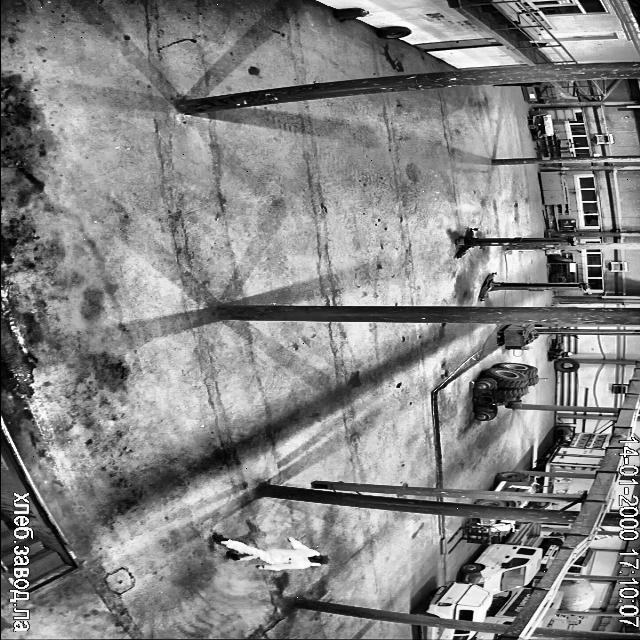class4: (214, 536, 330, 570), (493, 82, 541, 86)
class7: (460, 524, 541, 593), (532, 433, 612, 474), (412, 580, 492, 620), (484, 588, 532, 624), (463, 518, 529, 543), (558, 576, 595, 610), (493, 471, 542, 494), (540, 476, 594, 493), (537, 592, 562, 627), (476, 498, 551, 508), (567, 548, 595, 574), (421, 627, 474, 640), (540, 537, 563, 564), (476, 632, 498, 640), (559, 616, 579, 623), (572, 505, 579, 509)
tractor: (334, 8, 368, 21)
truck: (455, 228, 576, 257), (479, 275, 588, 300)
